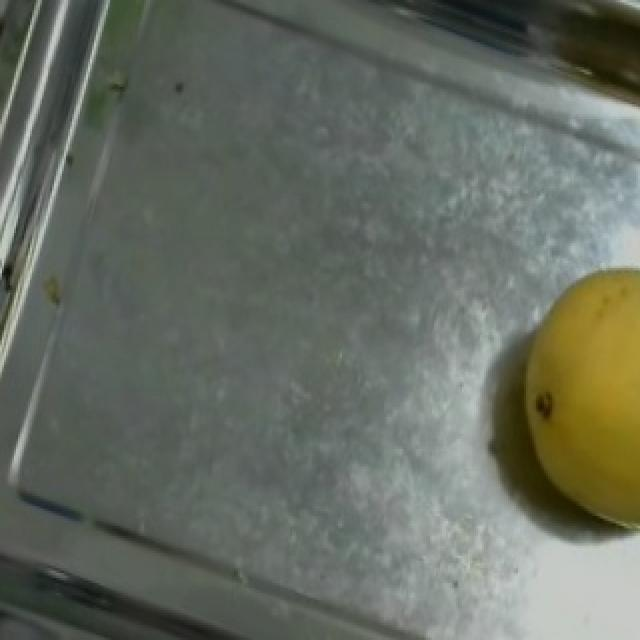fruit: (482, 213, 640, 563)
